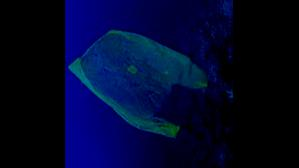Plastic: (68, 28, 213, 140)
